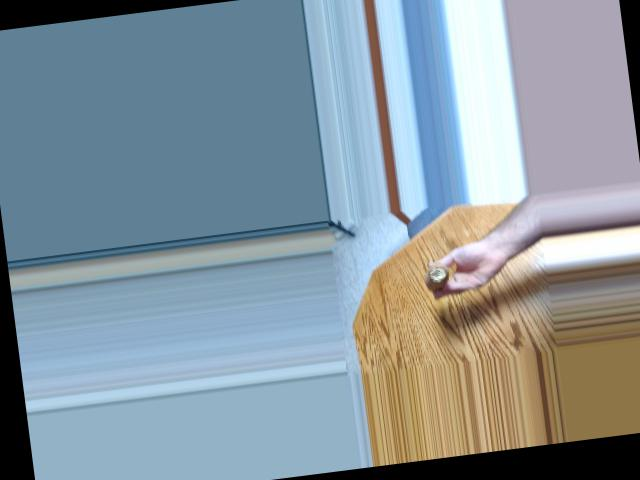sweet_potato: (418, 260, 449, 286)
